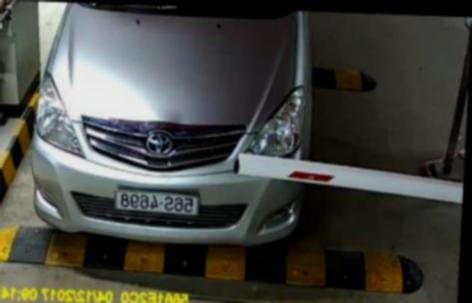License_Plate: (110, 183, 206, 218)
